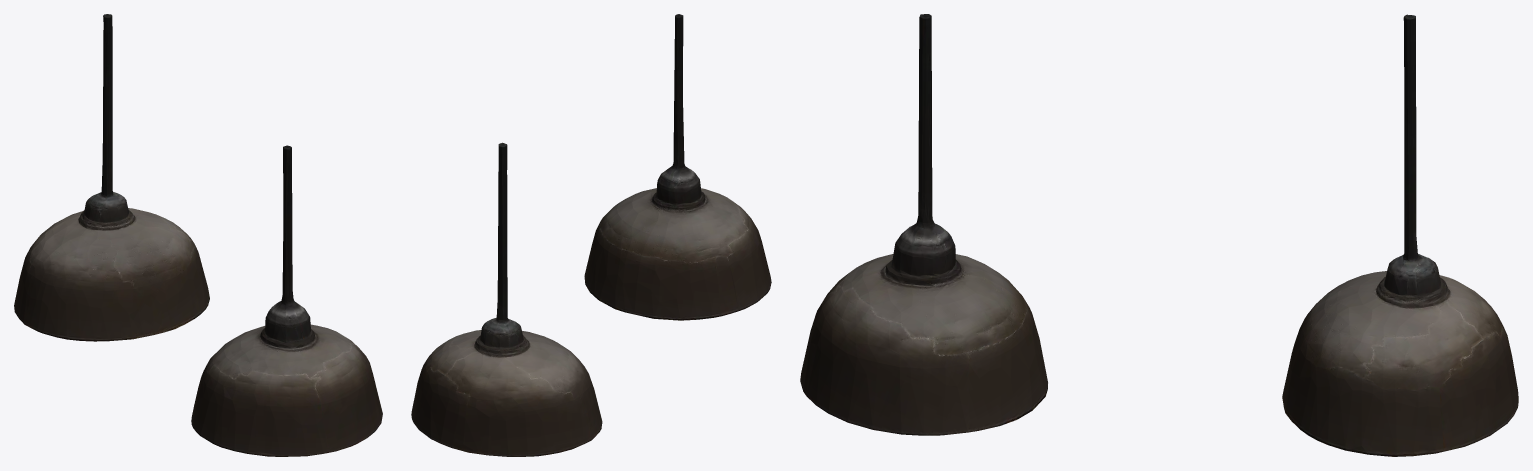
The picture shows the model from 3 angles, left to right: view 1: azimuth 30°, elevation 25°; view 2: azimuth 150°, elevation 25°; view 3: azimuth 270°, elevation 25°; orthographic projection. The views are drawn at different scales.
Visible parts, largest first — view 1: geometry_0; view 2: geometry_0; view 3: geometry_0.
Boxes of the visible parts, <box> form: geometry_0: <box>14,14,382,456</box>; geometry_0: <box>411,14,771,456</box>; geometry_0: <box>800,14,1518,456</box>.
Bounding box in the file's own units: 0.3773 × 0.5886 × 0.9991.
1 material, 1 textured.
